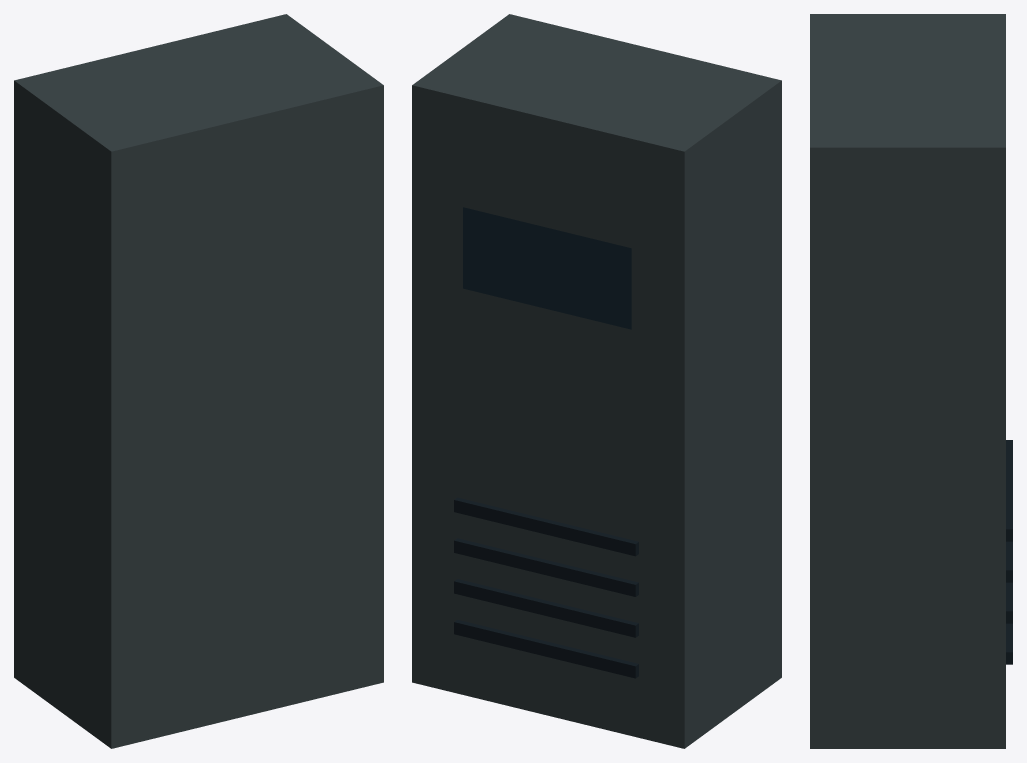
Rendered from portal_cabinet.obj.
3 renders of one model, left to right at view 1: azimuth 30°, elevation 25°; view 2: azimuth 150°, elevation 25°; view 3: azimuth 270°, elevation 25°, orthographic.
Visible parts, largest first — view 1: cabinet; view 2: cabinet, blank_diagnostic, vent; view 3: cabinet, vent.
Part boxes in pixels (box(x1,y1,x2,y2)): cabinet: box(14, 14, 383, 748); cabinet: box(412, 14, 781, 748); blank_diagnostic: box(463, 207, 631, 329); vent: box(454, 497, 638, 678); cabinet: box(810, 14, 1005, 748); vent: box(1006, 440, 1012, 664).
Size of the model in its own units: 1.05 by 2.2 by 0.6725.
